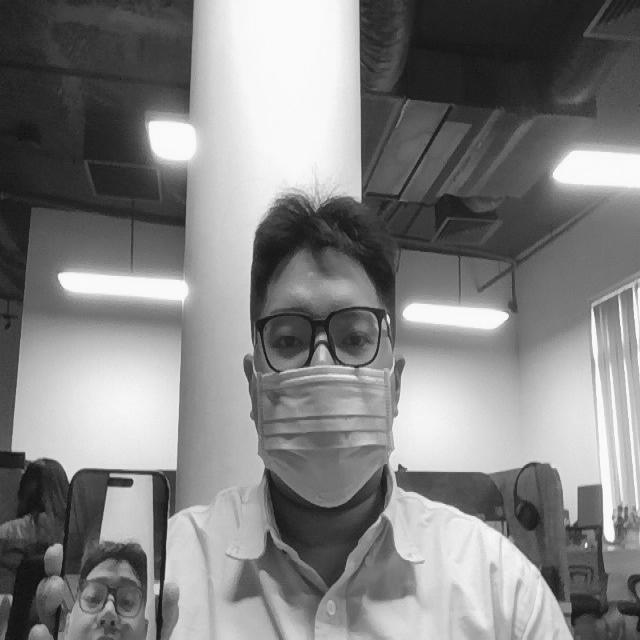fake: (249, 363, 397, 512), (57, 455, 174, 640), (64, 533, 151, 640)
real: (231, 179, 412, 524), (251, 300, 395, 371)
